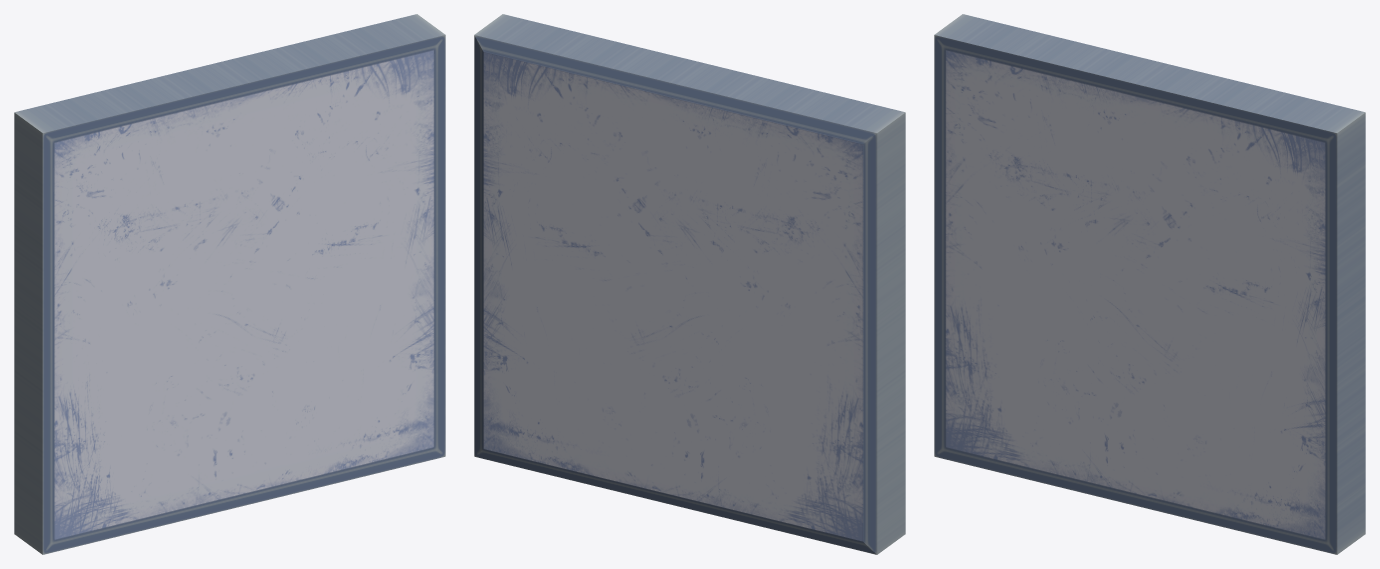
File: floor2_low.fbx
3 renders of one model, left to right at view 1: azimuth 30°, elevation 25°; view 2: azimuth 150°, elevation 25°; view 3: azimuth 330°, elevation 25°, orthographic.
Visible parts, largest first — view 1: floor2_low; view 2: floor2_low; view 3: floor2_low.
Boxes of the visible parts, x1=… form: floor2_low: x1=14, y1=14, x2=445, y2=554; floor2_low: x1=474, y1=14, x2=905, y2=554; floor2_low: x1=934, y1=14, x2=1365, y2=554.
Bounding box in the file's own units: 150 × 150 × 20.
